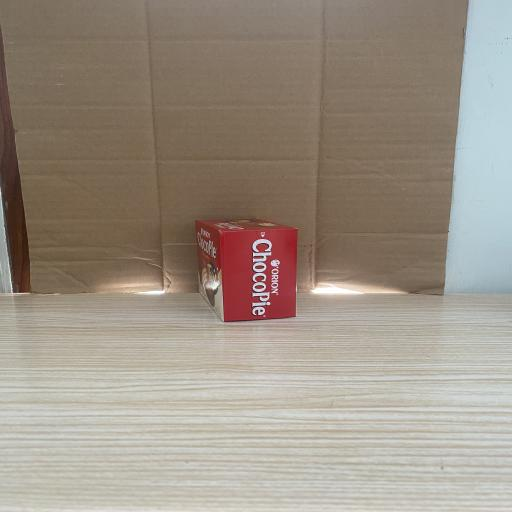chocopie: (196, 219, 298, 321)
